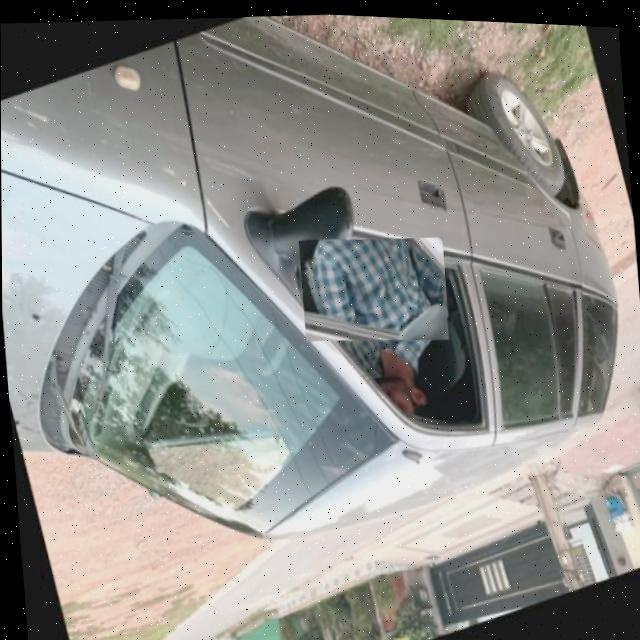no-seatbelt: (297, 226, 448, 345)
